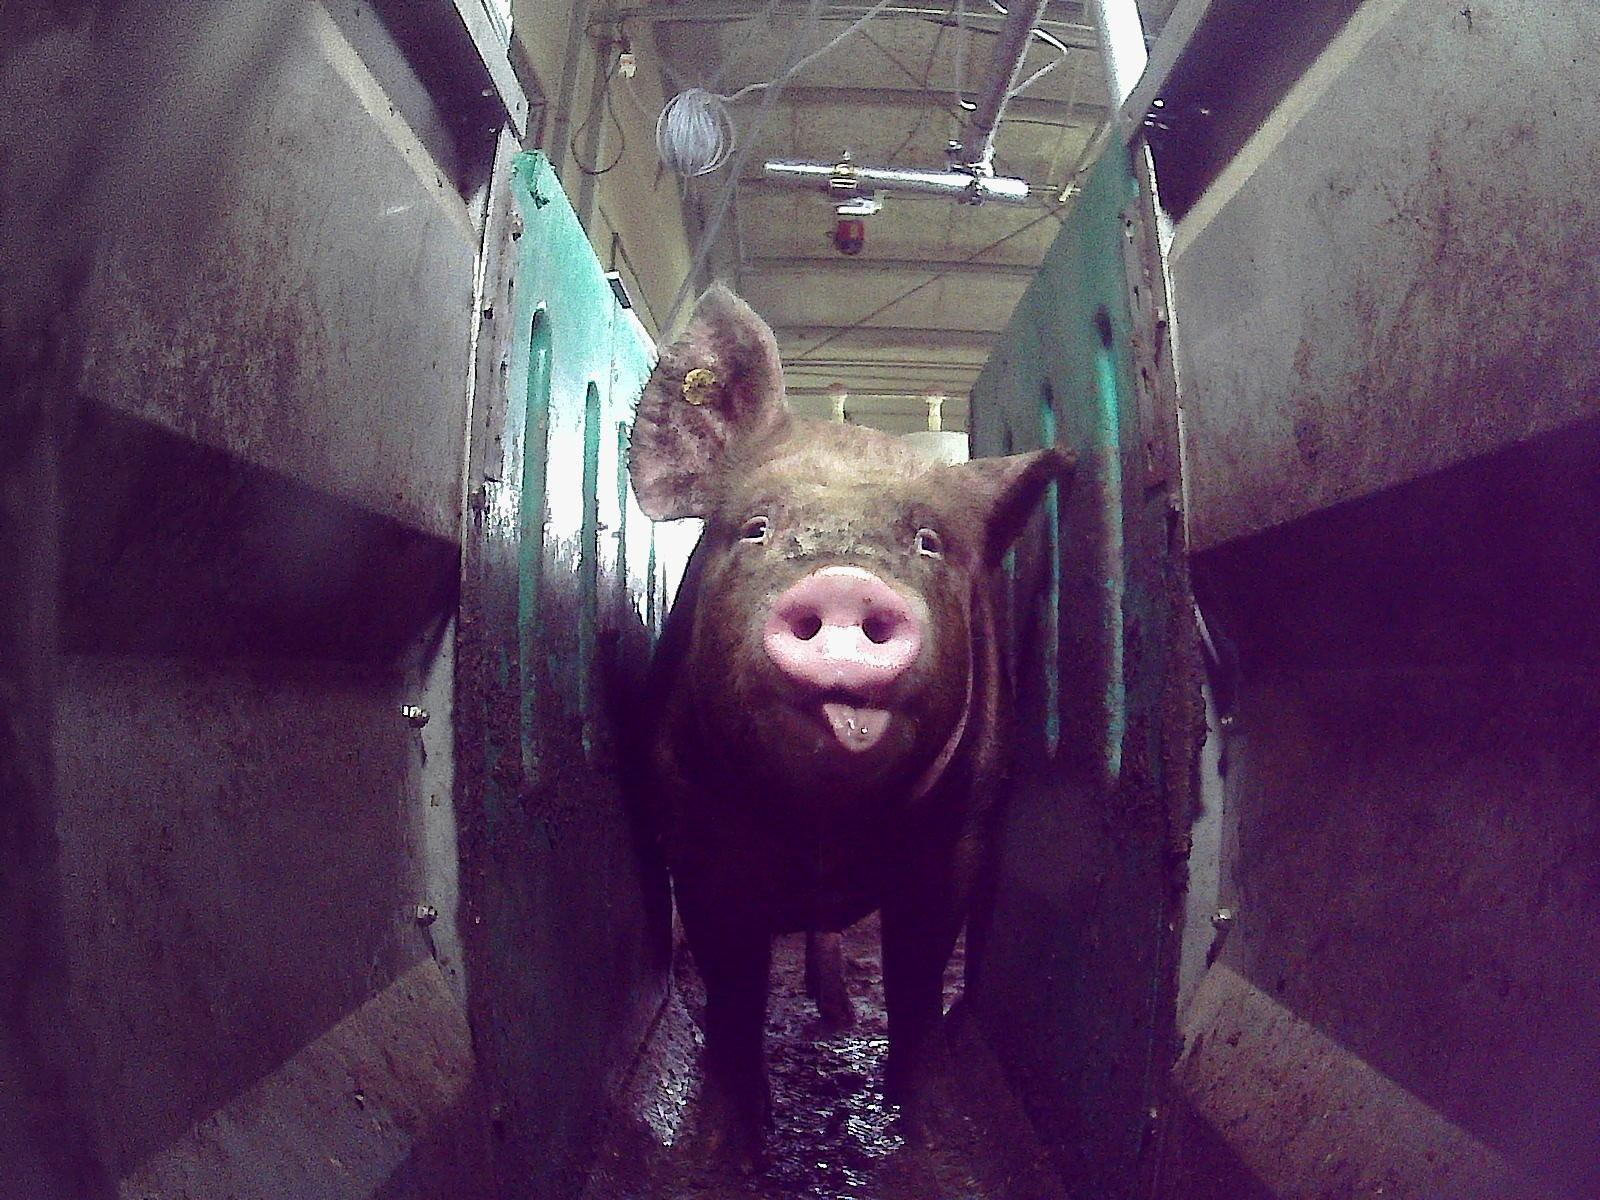Face: (692, 429, 975, 819)
